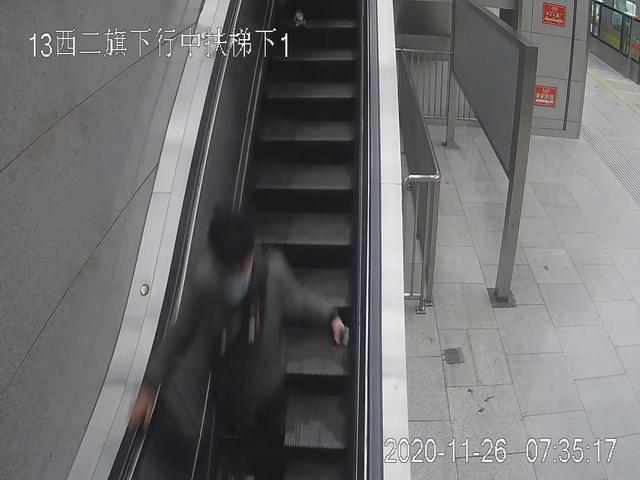person: (127, 209, 351, 480)
